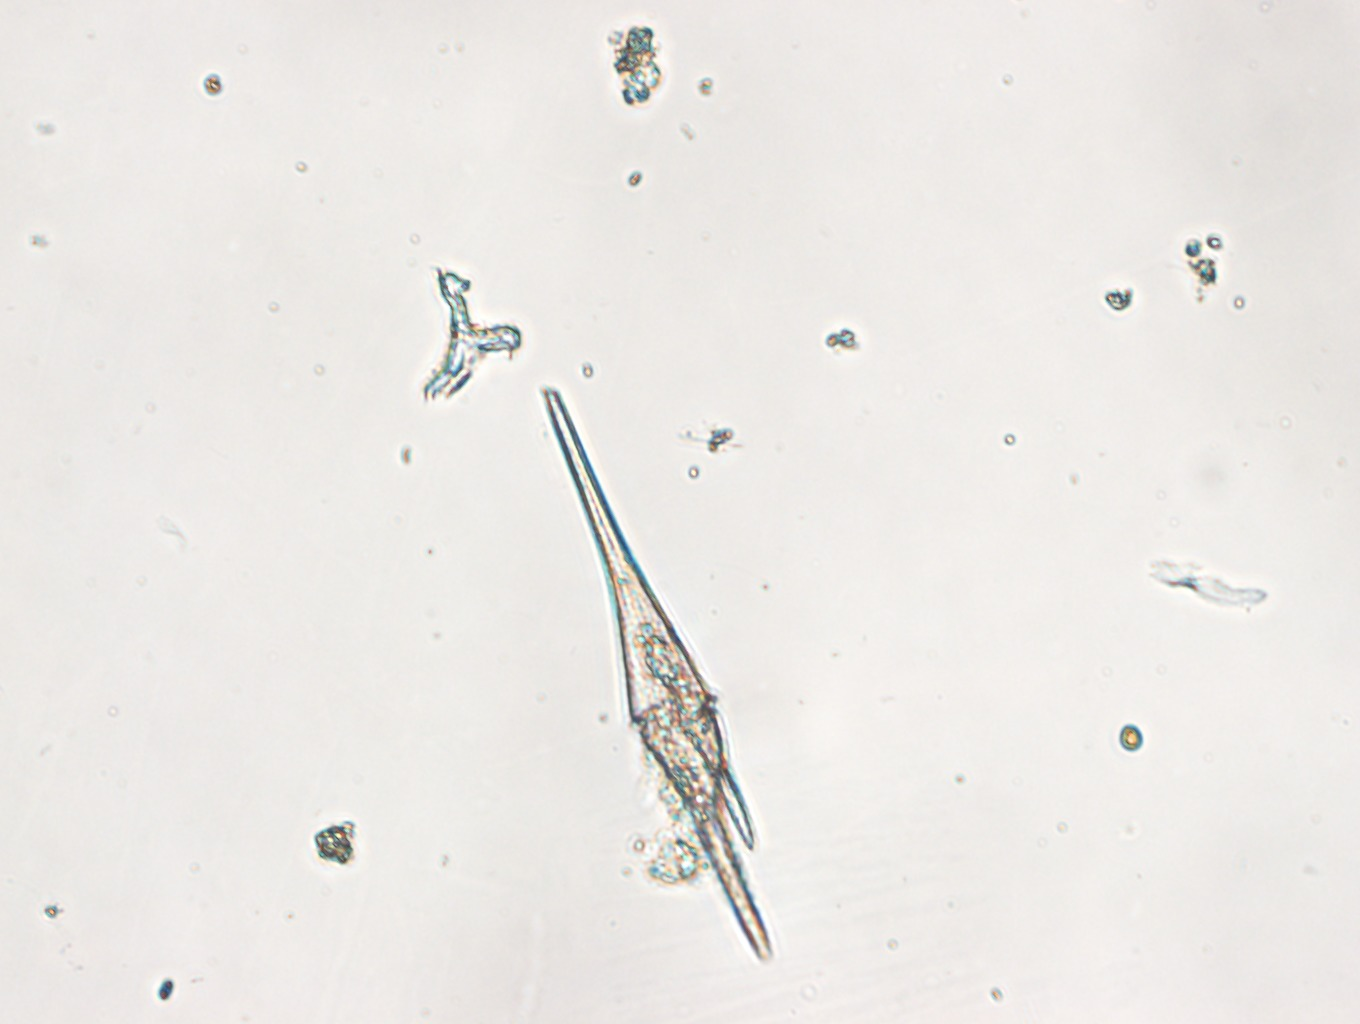ceratium furca: (540, 383, 777, 967)
